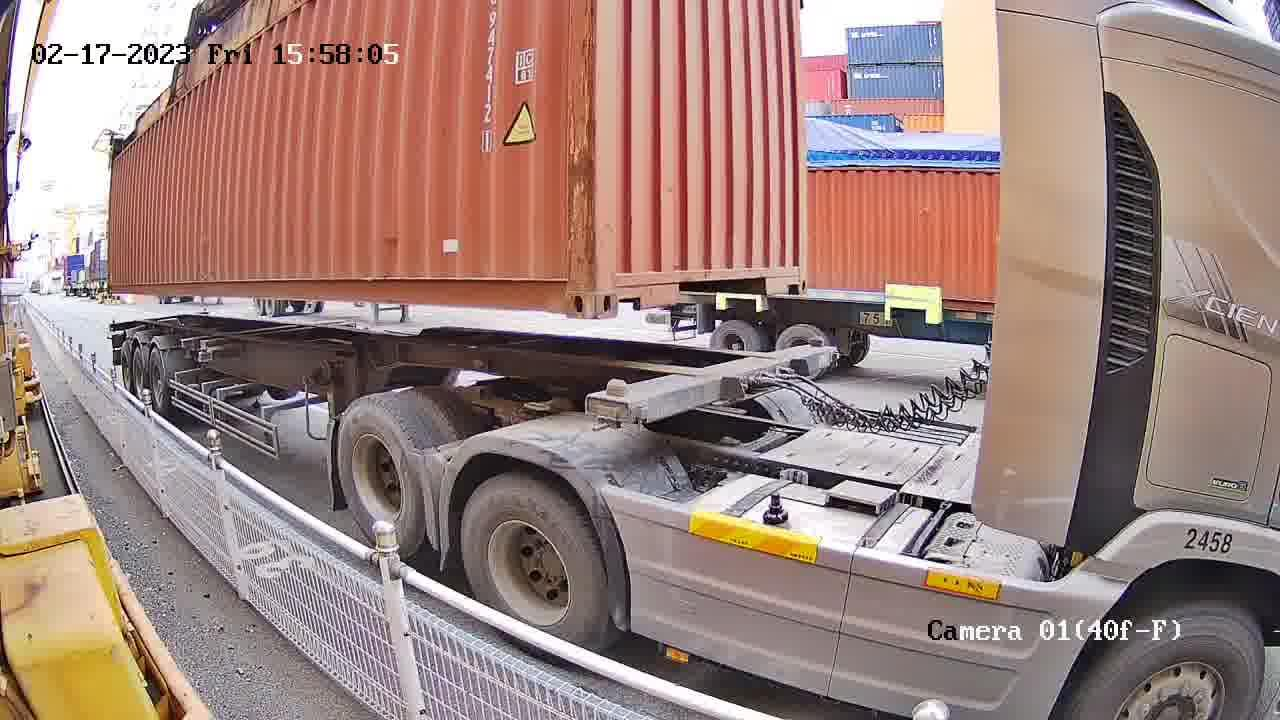Chassis: (591, 344, 836, 425)
Cone: (592, 377, 632, 433), (802, 334, 827, 351)
Hole_L: (594, 258, 642, 315)
Hole_R: (544, 258, 591, 314), (778, 254, 810, 294)
Tire: (459, 476, 605, 657), (336, 401, 426, 554)
